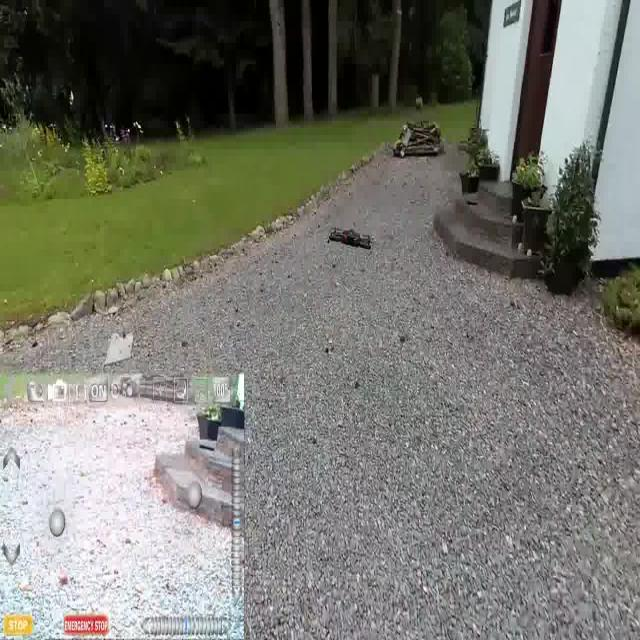drone: (326, 223, 376, 255)
